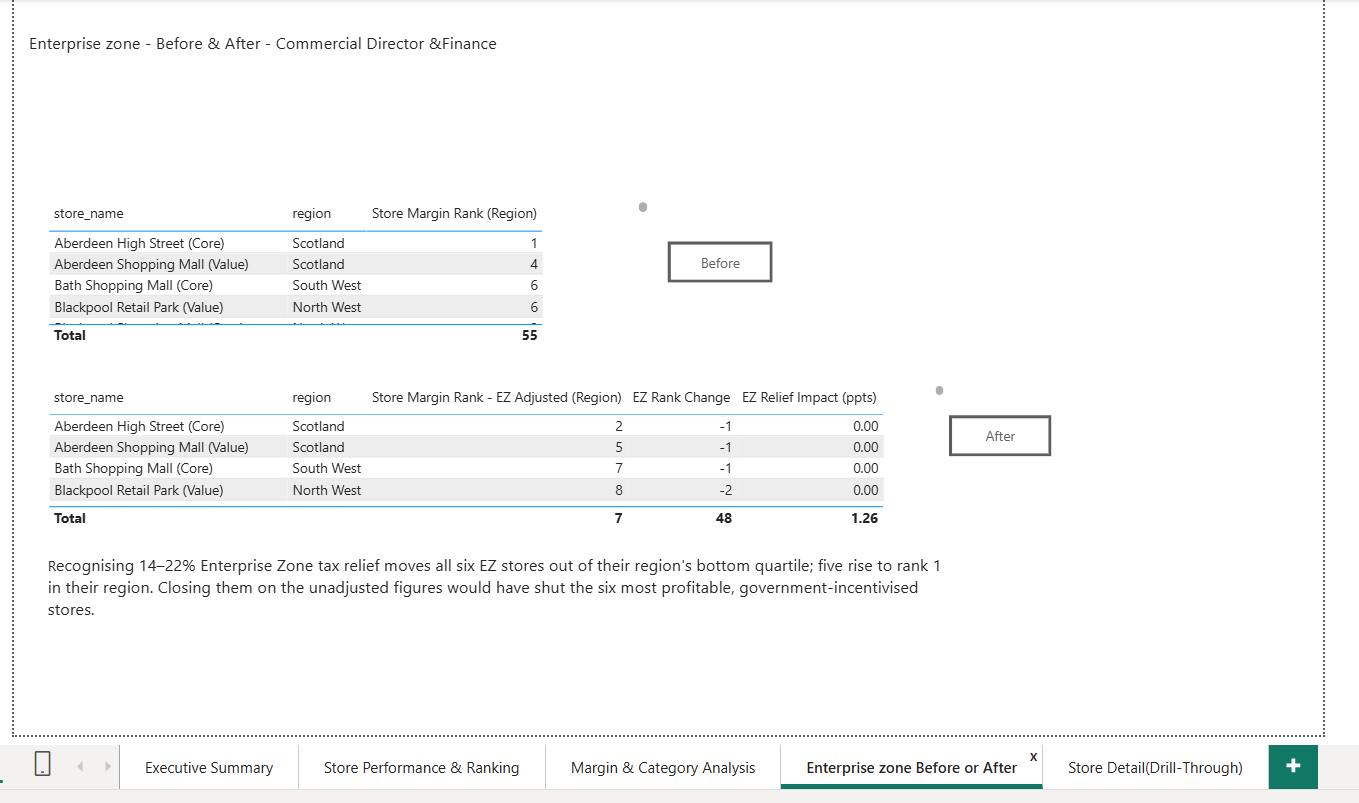

This screenshot's page, from the dashboard's own definition file:
{"tool":"powerbi","page":{"name":"Enterprise zone Before or After","canvas":[1280,720],"ordinal":3},"visuals":[{"type":"textbox","box":[9.8,26.9,503.8,47.7],"z":0},{"type":"tableEx","title":"\"After table\"","fields":{"Values":["Stores.store_name","Stores.region","Table.Store Margin Rank (Region)"]},"box":[28.1,193.2,596.7,150.4],"z":1},{"type":"tableEx","title":"\"Before table\"","fields":{"Values":["Stores.store_name","Stores.region","Table.Store Margin Rank - EZ Adjusted (Region)","Table.EZ Rank Change","Table.EZ Relief Impact (ppts)"]},"box":[28.1,373,886.6,149.2],"z":2},{"type":"actionButton","box":[639.5,237.2,102.7,40.4],"z":3},{"type":"actionButton","box":[914.7,407.2,100.3,40.4],"z":4},{"type":"textbox","box":[28,536.5,887,150],"z":5}]}

Visuals, with their boxes on the page's 1280x720 design canvas (x1, y1, x2, y2). These are canvas units, not pixel positions in the 1359x803 screenshot, which may show the page scaled, cropped or inside an application window:
textbox: [10,27,514,75]
""After table"" tableEx: [28,193,625,344]
""Before table"" tableEx: [28,373,915,522]
actionButton: [640,237,742,278]
actionButton: [915,407,1015,448]
textbox: [28,536,915,686]
